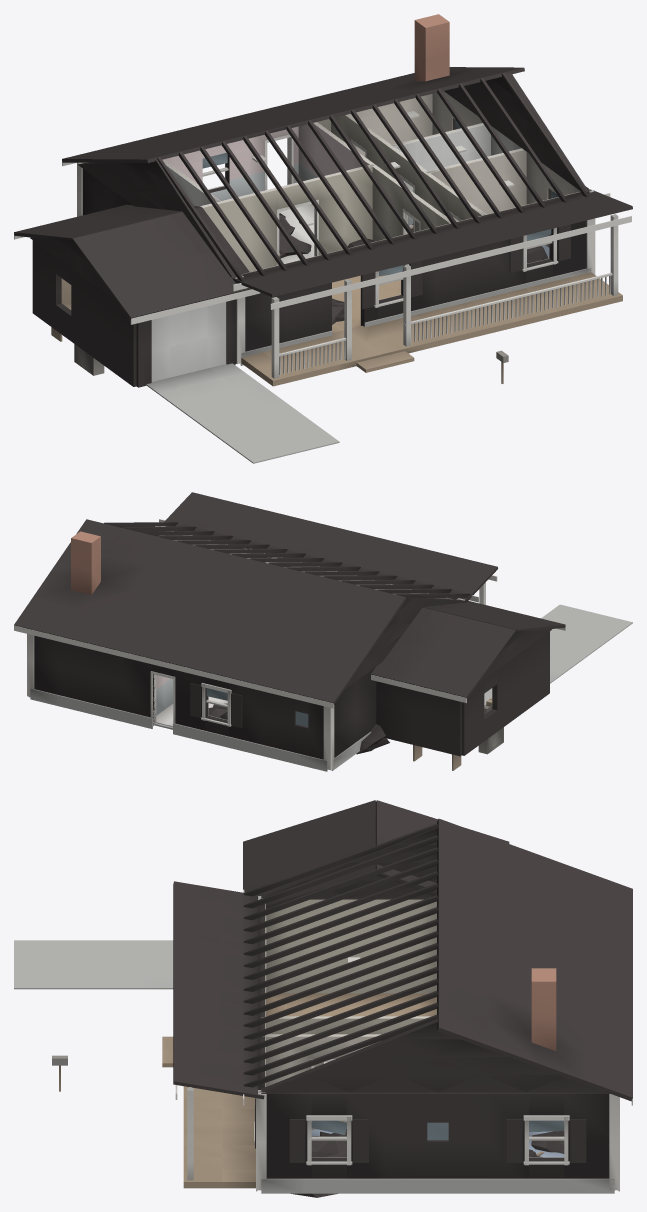
File: casa_us_q1.glb
The picture shows the model from 3 angles, top to bottom: view 1: azimuth 30°, elevation 25°; view 2: azimuth 150°, elevation 25°; view 3: azimuth 270°, elevation 25°; orthographic projection. The views are drawn at different scales.
Visible parts, largest first — view 1: longe, ext, dentro, detalhe; view 2: longe, ext, detalhe, dentro, despensa_garagem2; view 3: longe, ext, dentro, detalhe.
Boxes of the visible parts, x1,y1,x2,y2 form: longe: (14,67,632,463); ext: (30,14,595,387); dentro: (162,91,580,332); detalhe: (51,120,570,383); longe: (14,492,632,708); ext: (27,526,551,771); detalhe: (150,671,461,770); dentro: (154,531,492,729); despensa_garagem2: (478,697,503,754); longe: (14,800,632,1188); ext: (256,824,619,1193); dentro: (261,899,564,1157); detalhe: (52,1036,586,1197).
Size of what is drawn, in the model's own units: 17.8 by 6.99 by 17.52.
